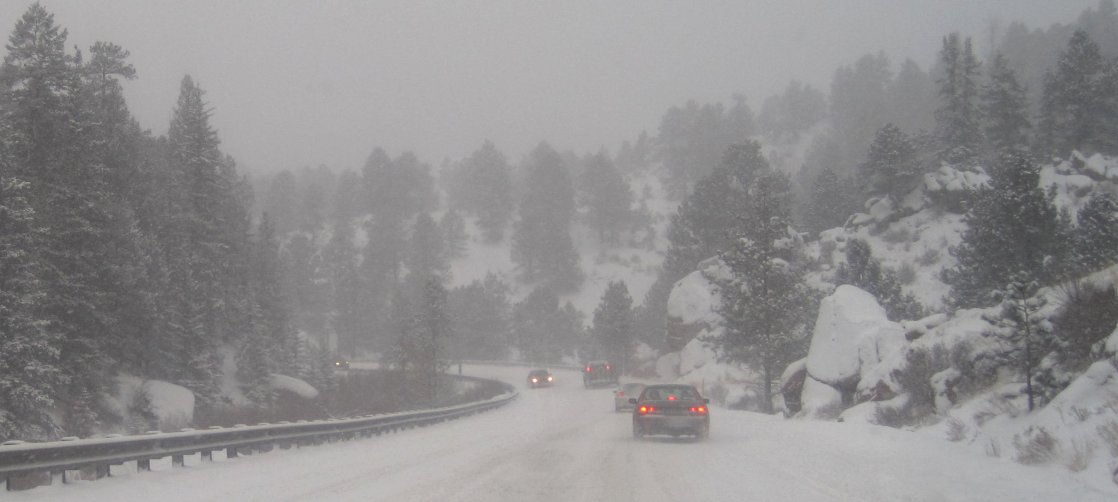car: (631, 385, 716, 442), (526, 367, 556, 389)
